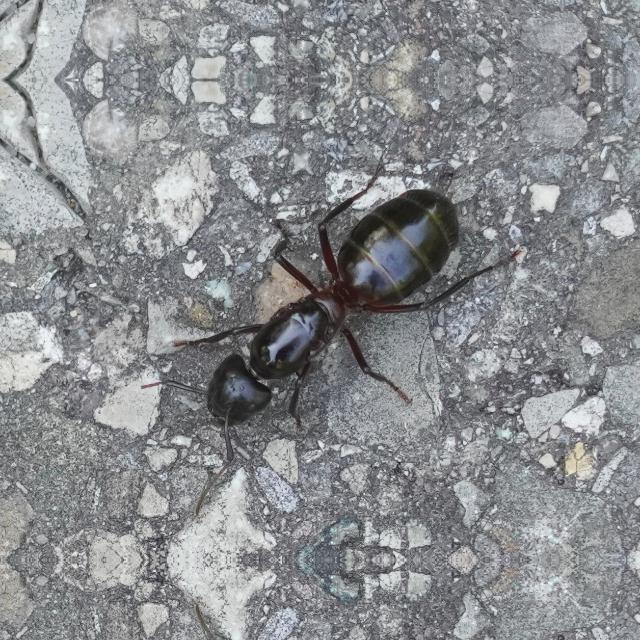Camponotus: (142, 158, 518, 462)
